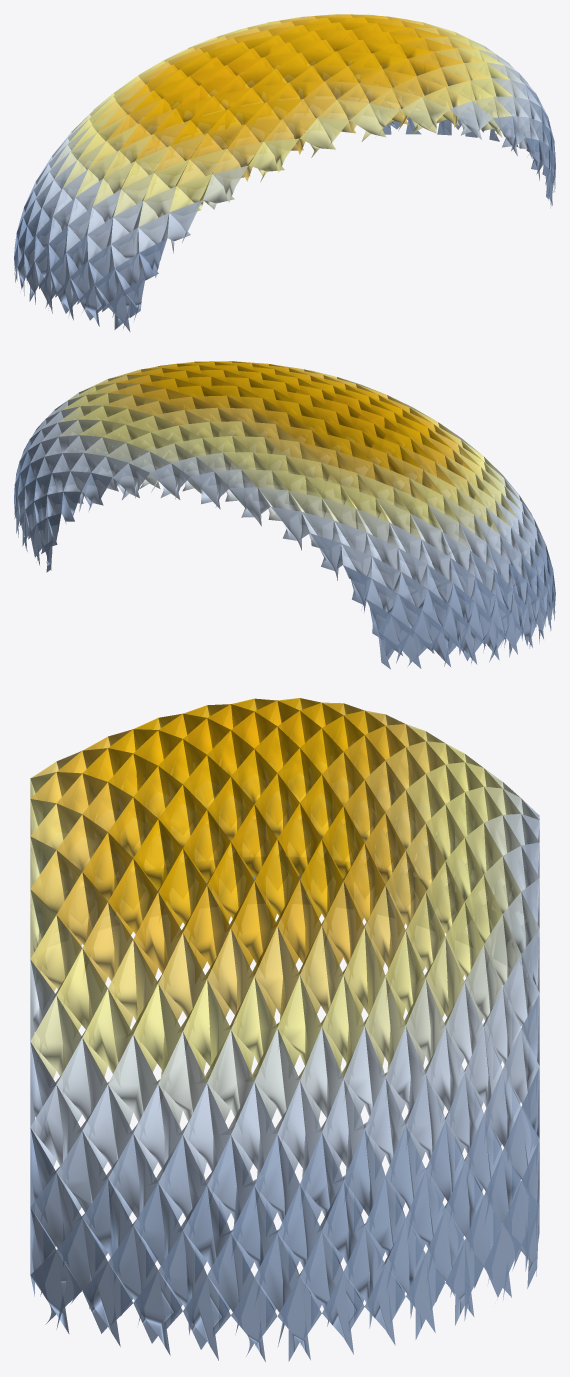
File: u1-2-color.glb
3 renders of one model, top to bottom at view 1: azimuth 30°, elevation 25°; view 2: azimuth 150°, elevation 25°; view 3: azimuth 270°, elevation 25°, orthographic. The views are drawn at different scales.
Parts seen in each view (by area): view 1: [0]; view 2: [0]; view 3: [0].
Part boxes in pixels (x1,y1,x2,y2): [0]: (14,14,555,331); [0]: (14,361,555,669); [0]: (30,698,539,1362).
Size of the model in its own units: 4.62 by 1.68 by 1.99.
